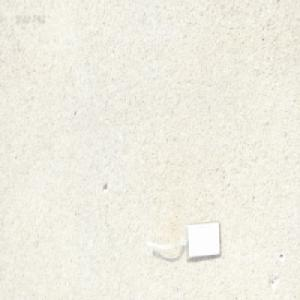LuggageTag: (144, 218, 221, 260)
